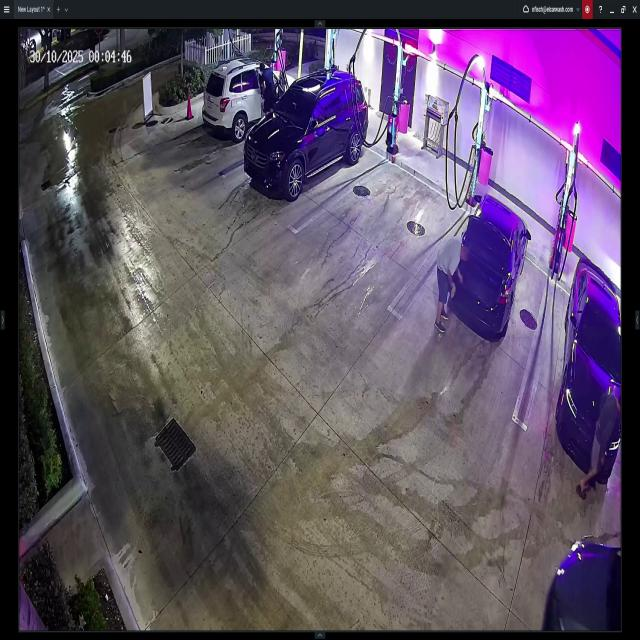Car: (242, 71, 368, 197), (556, 254, 622, 483), (454, 189, 530, 340), (546, 532, 622, 635), (203, 62, 297, 137)
